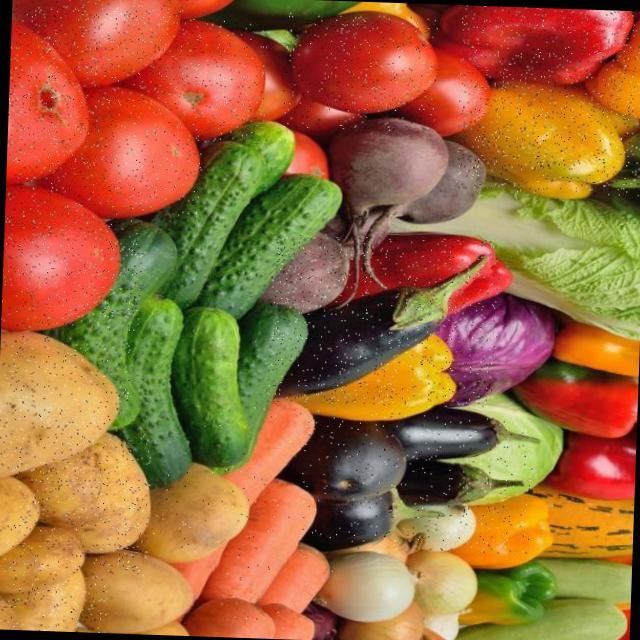Patata: (15, 424, 150, 576), (0, 335, 129, 479), (128, 466, 262, 569), (71, 551, 218, 637), (0, 519, 109, 632)
